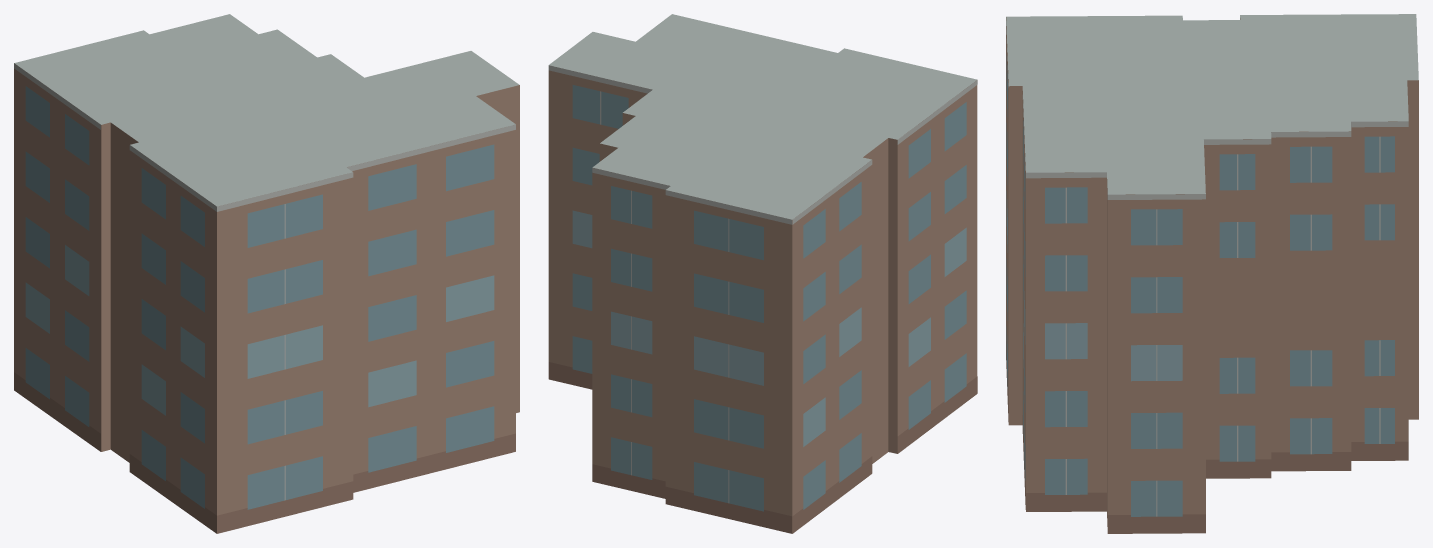
Rendered from survey-upis-32965010.glb.
The picture shows the model from 3 angles, left to right: view 1: azimuth 30°, elevation 25°; view 2: azimuth 150°, elevation 25°; view 3: azimuth 270°, elevation 25°; orthographic projection. The views are drawn at different scales.
Visible parts, largest first — view 1: survey-upis-32965010.tmp; view 2: survey-upis-32965010.tmp; view 3: survey-upis-32965010.tmp.
Part boxes in pixels (x1,y1,x2,y2): survey-upis-32965010.tmp: (14, 14, 519, 533); survey-upis-32965010.tmp: (548, 14, 977, 533); survey-upis-32965010.tmp: (1006, 14, 1418, 533).
Bounding box in the file's own units: 17.07 × 14.95 × 16.49.
